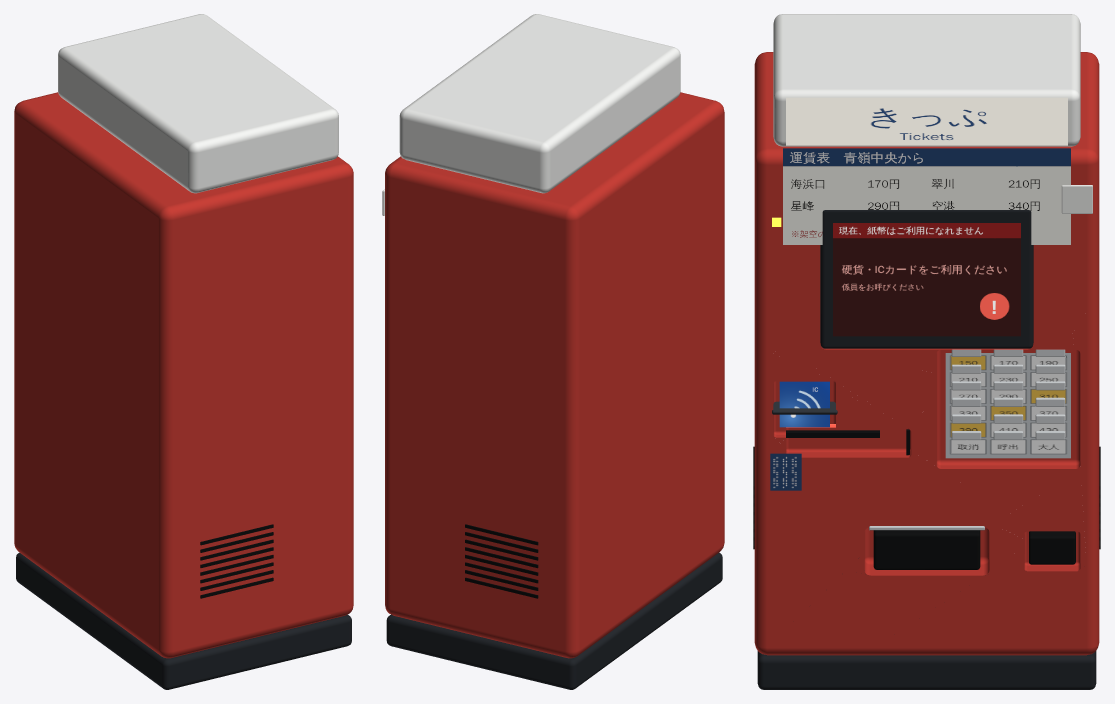
File: ticket_red_fault.glb
3 renders of one model, left to right at view 1: azimuth 30°, elevation 25°; view 2: azimuth 150°, elevation 25°; view 3: azimuth 270°, elevation 25°, orthographic. The views are drawn at different scales.
Parts seen in each view (by area): view 1: Body, VendParts_VendWhite, VendParts_VendDark, VendParts_Black; view 2: Body, VendParts_VendWhite, VendParts_VendDark, VendParts_Black; view 3: Body, VendParts_VendWhite, LCD, FareTable, VendParts_VendDark, LightBoxFace, ButtonPanel, VendParts_Black, VendParts_VendTrim, ICPad, BraillePlate, VendParts_GateTop.
Part boxes in pixels (x1=…): Body: x1=14, y1=92, x2=353, y2=658; VendParts_VendWhite: x1=58, y1=14, x2=338, y2=193; VendParts_VendDark: x1=16, y1=552, x2=351, y2=689; VendParts_Black: x1=200, y1=524, x2=273, y2=598; Body: x1=385, y1=92, x2=724, y2=658; VendParts_VendWhite: x1=382, y1=14, x2=680, y2=215; VendParts_VendDark: x1=386, y1=552, x2=722, y2=689; VendParts_Black: x1=465, y1=524, x2=538, y2=598; Body: x1=754, y1=52, x2=1099, y2=655; VendParts_VendWhite: x1=773, y1=14, x2=1092, y2=213; LCD: x1=833, y1=223, x2=1020, y2=336; FareTable: x1=783, y1=148, x2=1070, y2=244; VendParts_VendDark: x1=757, y1=210, x2=1096, y2=689; LightBoxFace: x1=786, y1=97, x2=1067, y2=145; ButtonPanel: x1=945, y1=353, x2=1070, y2=458; VendParts_Black: x1=753, y1=429, x2=1100, y2=569; VendParts_VendTrim: x1=869, y1=349, x2=1065, y2=530; ICPad: x1=779, y1=381, x2=829, y2=427; BraillePlate: x1=770, y1=453, x2=801, y2=490; VendParts_GateTop: x1=772, y1=401, x2=837, y2=414.
Bounding box in the file's own units: 0.8149 × 2.1 × 1.11.
14 materials, 6 textured.
